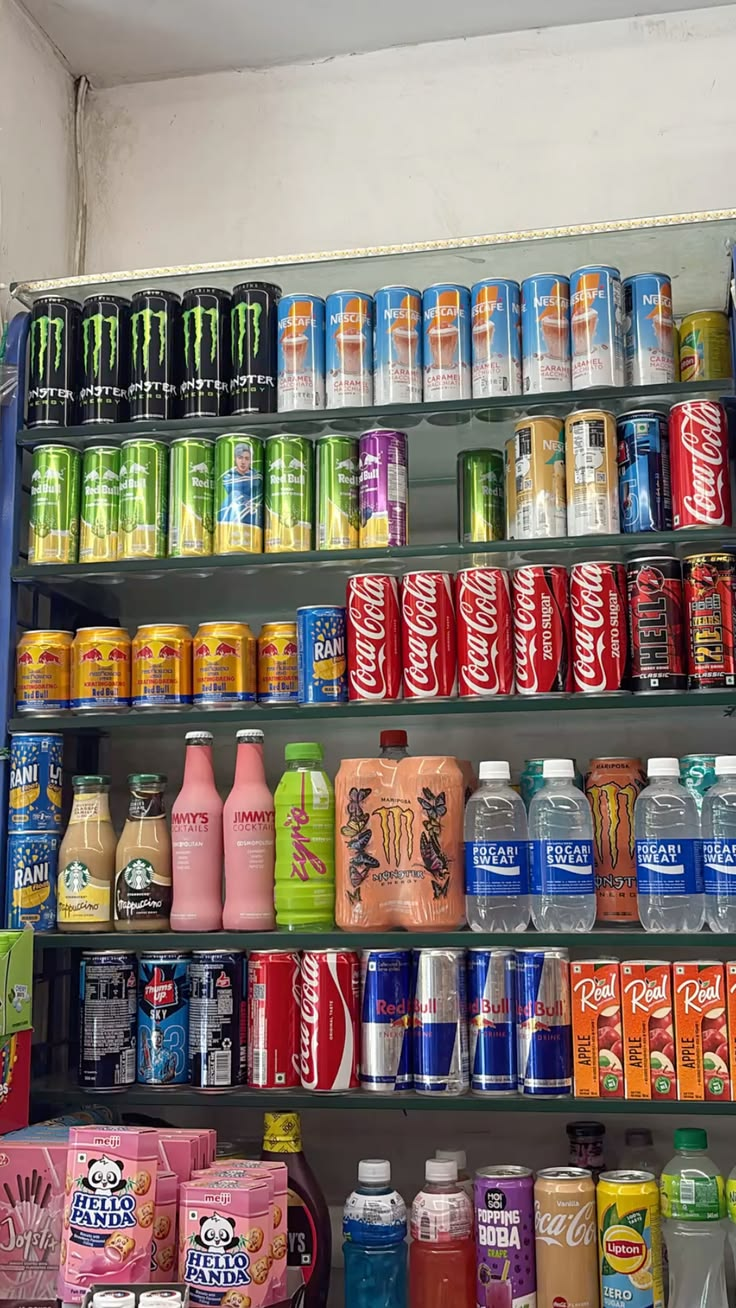soft_drink: (301, 949, 357, 1092), (401, 570, 456, 700), (401, 571, 456, 699), (566, 409, 618, 535), (231, 283, 280, 412), (82, 296, 129, 421), (375, 286, 420, 403), (169, 438, 213, 557)
